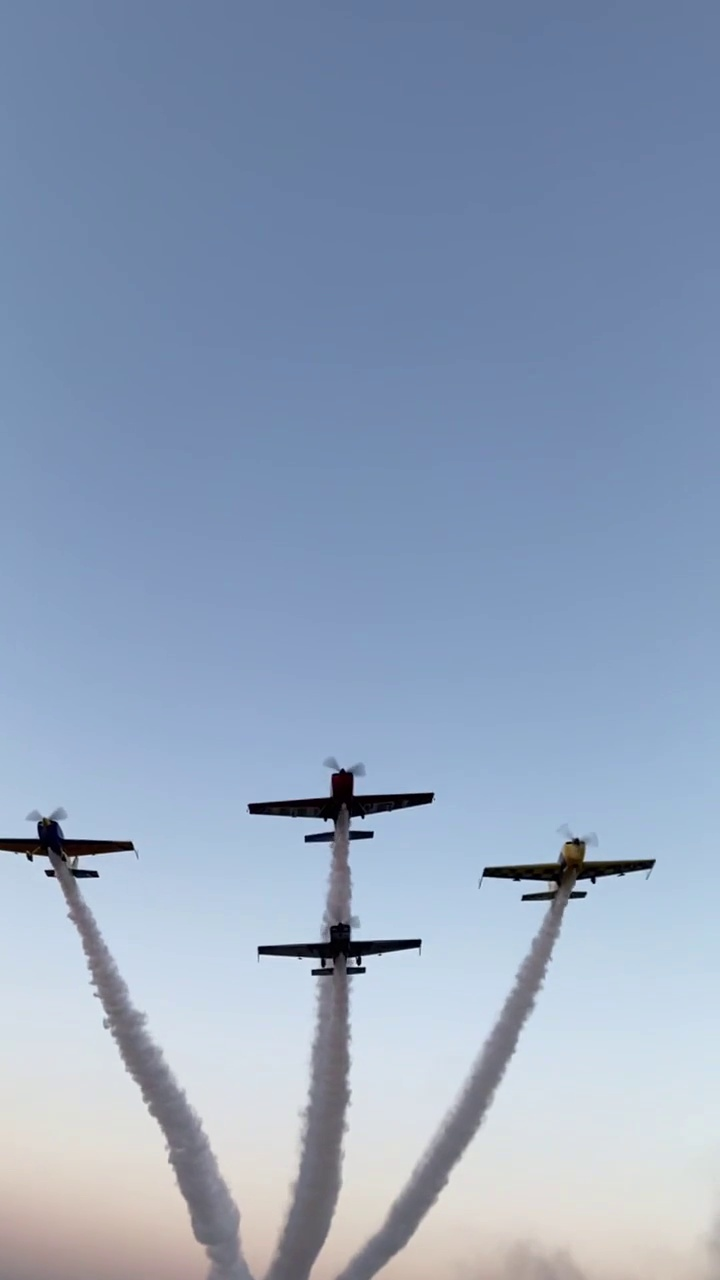plane: (242, 760, 441, 844), (476, 820, 662, 904), (253, 907, 425, 978), (1, 810, 140, 876)
